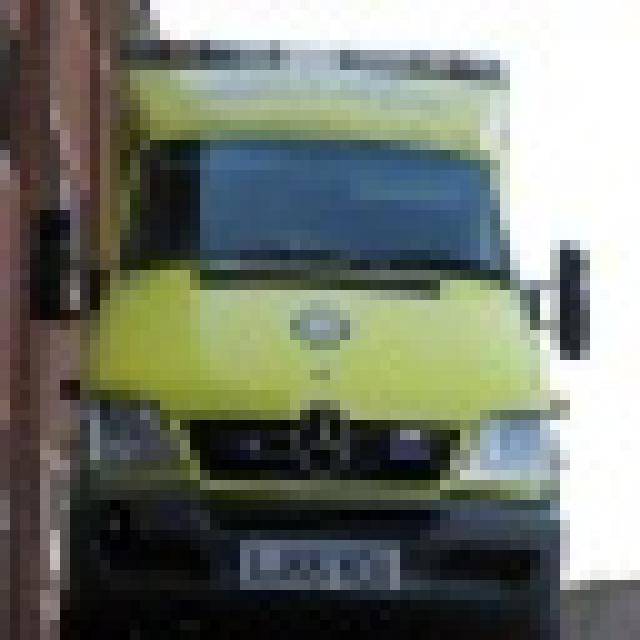Ambulance: (60, 30, 590, 630)
